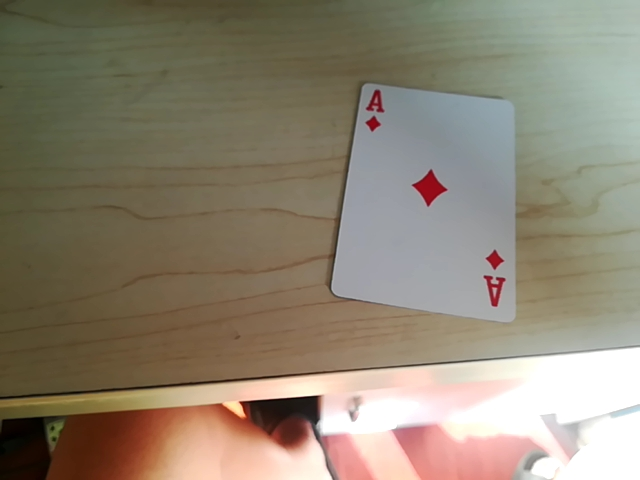fk a: (482, 245, 516, 312), (354, 88, 392, 141)
